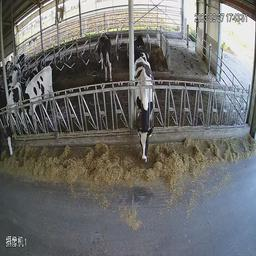cow: (133, 52, 159, 175), (18, 60, 61, 130), (1, 74, 23, 161), (95, 32, 118, 85), (134, 29, 152, 62)
